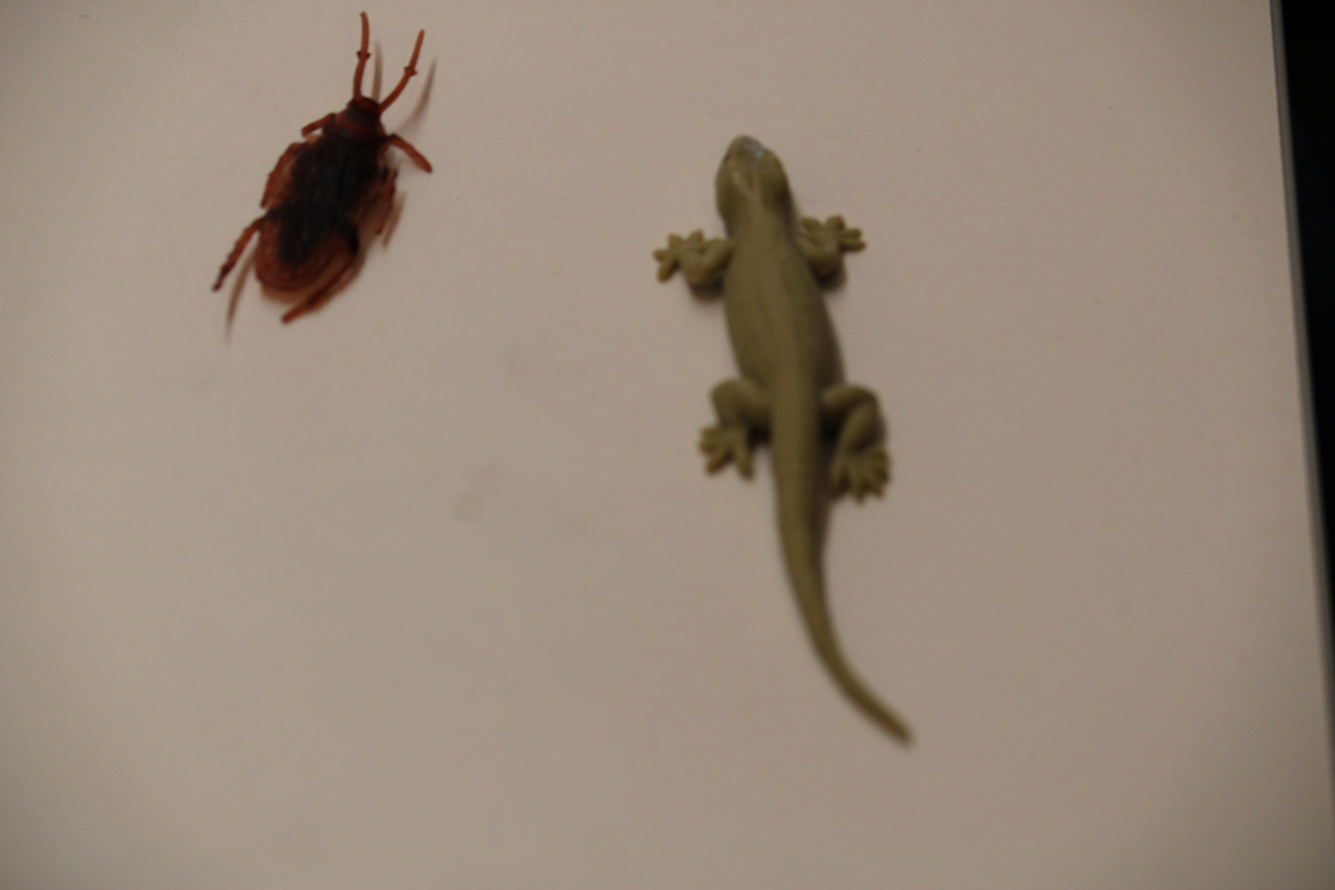cockroach: (207, 5, 439, 344)
lizard: (641, 125, 925, 755)
